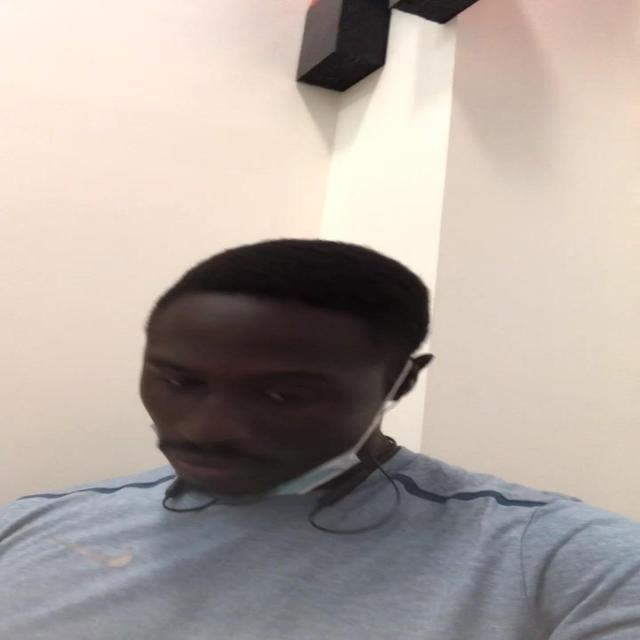face: (136, 323, 412, 497)
